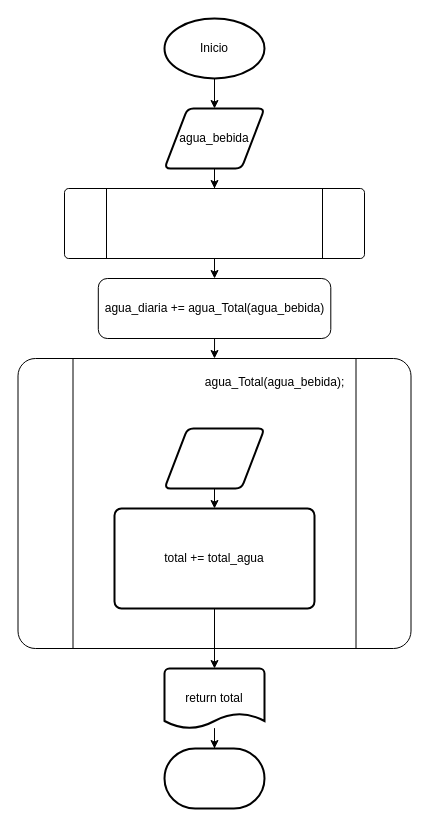
Image size: 428x826. Some labels were removed from this diagram. The box of each missing label's shape, as (x1, y1, x2, y2) in pixels:
agua_bebida = cantidadAgua(peso_before): (64, 188, 364, 258)
Fin: (163, 747, 265, 809)
total: (163, 427, 265, 489)
